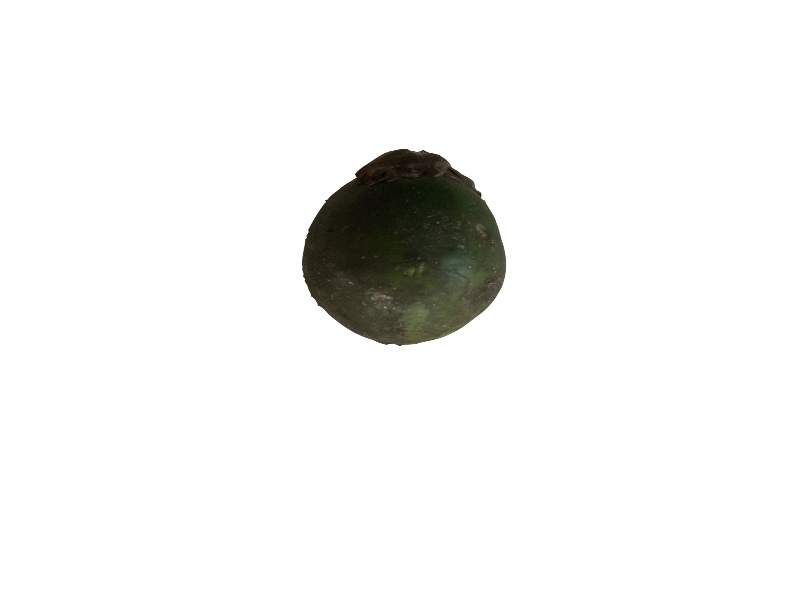arecanut: (287, 141, 518, 356)
